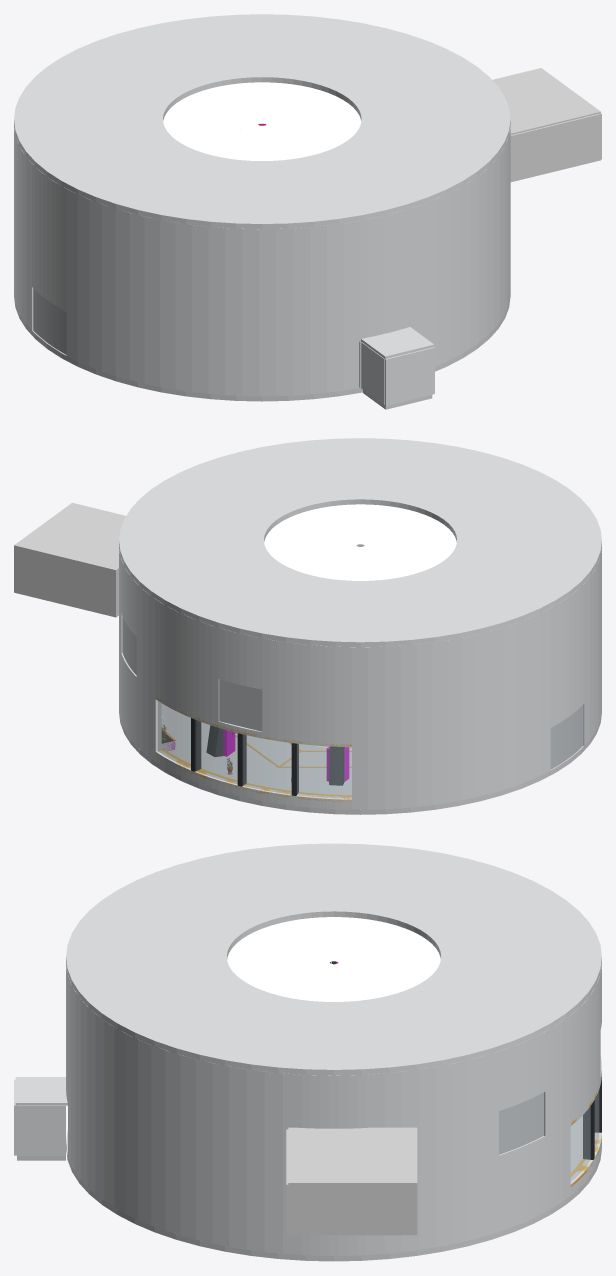
File: _tmp_debug.glb
3 renders of one model, top to bottom at view 1: azimuth 30°, elevation 25°; view 2: azimuth 150°, elevation 25°; view 3: azimuth 270°, elevation 25°, orthographic. The views are drawn at different scales.
Visible parts, largest first — view 1: Atrium_Ceiling, Atrium_Wall, Atrium_LiftCab, COL_VossWallN, COL_VossCeil, Atrium_Floor, DOOR_PODS; view 2: Atrium_Ceiling, Atrium_Wall, Atrium_Window, Atrium_Floor, COL_VossWallN, COL_VossCeil, DOOR_PODS, Atrium_Pillars, LABDOOR_L, LABDOOR_R, COL_Atrium, DOOR_KESSLER; view 3: Atrium_Ceiling, Atrium_Wall, COL_VossCeil, COL_VossWallE, Atrium_LiftCab, Atrium_Floor, DOOR_KESSLER, Atrium_Window.
Part boxes in pixels (<box>): Atrium_Ceiling: <box>14,14,510,229</box>; Atrium_Wall: <box>14,126,510,396</box>; Atrium_LiftCab: <box>361,327,434,409</box>; COL_VossWallN: <box>510,113,601,181</box>; COL_VossCeil: <box>492,68,600,134</box>; Atrium_Floor: <box>14,293,510,401</box>; DOOR_PODS: <box>33,288,66,354</box>; Atrium_Ceiling: <box>119,438,601,647</box>; Atrium_Wall: <box>119,544,601,809</box>; Atrium_Window: <box>156,698,351,801</box>; Atrium_Floor: <box>119,703,601,814</box>; COL_VossWallN: <box>14,547,118,615</box>; COL_VossCeil: <box>14,502,125,571</box>; DOOR_PODS: <box>550,705,582,769</box>; Atrium_Pillars: <box>206,725,344,785</box>; LABDOOR_L: <box>219,679,240,726</box>; LABDOOR_R: <box>241,685,262,731</box>; COL_Atrium: <box>167,729,349,781</box>; DOOR_KESSLER: <box>122,617,136,675</box>; Atrium_Ceiling: <box>66,843,601,1075</box>; Atrium_Wall: <box>66,963,601,1255</box>; COL_VossCeil: <box>288,1127,417,1184</box>; COL_VossWallE: <box>288,1184,417,1233</box>; Atrium_LiftCab: <box>14,1077,67,1160</box>; Atrium_Floor: <box>66,1115,601,1261</box>; DOOR_KESSLER: <box>499,1092,543,1154</box>; Atrium_Window: <box>570,1077,601,1186</box>.
Size of the model in its own units: 43.35 by 14.4 by 38.4.
Materials: 80 (21 with a texture image).
